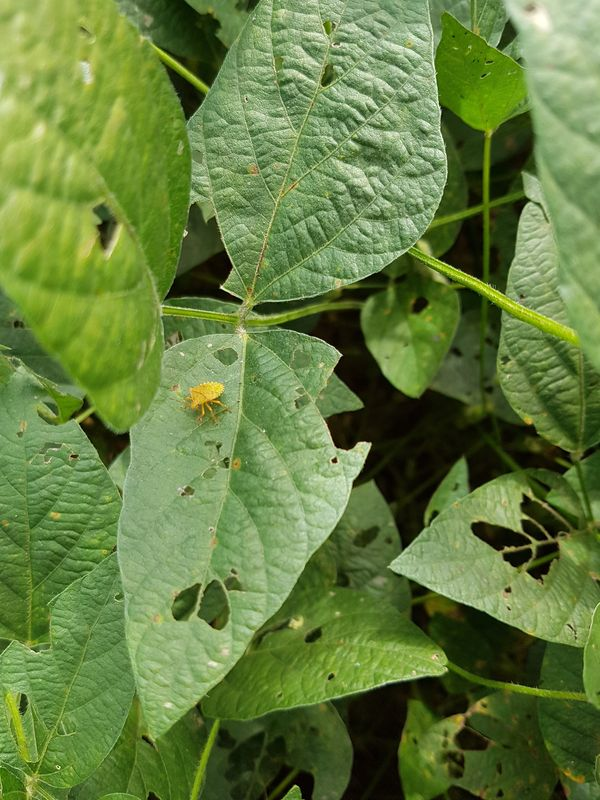Euschistus_heros_ninfa: (173, 371, 238, 435)
